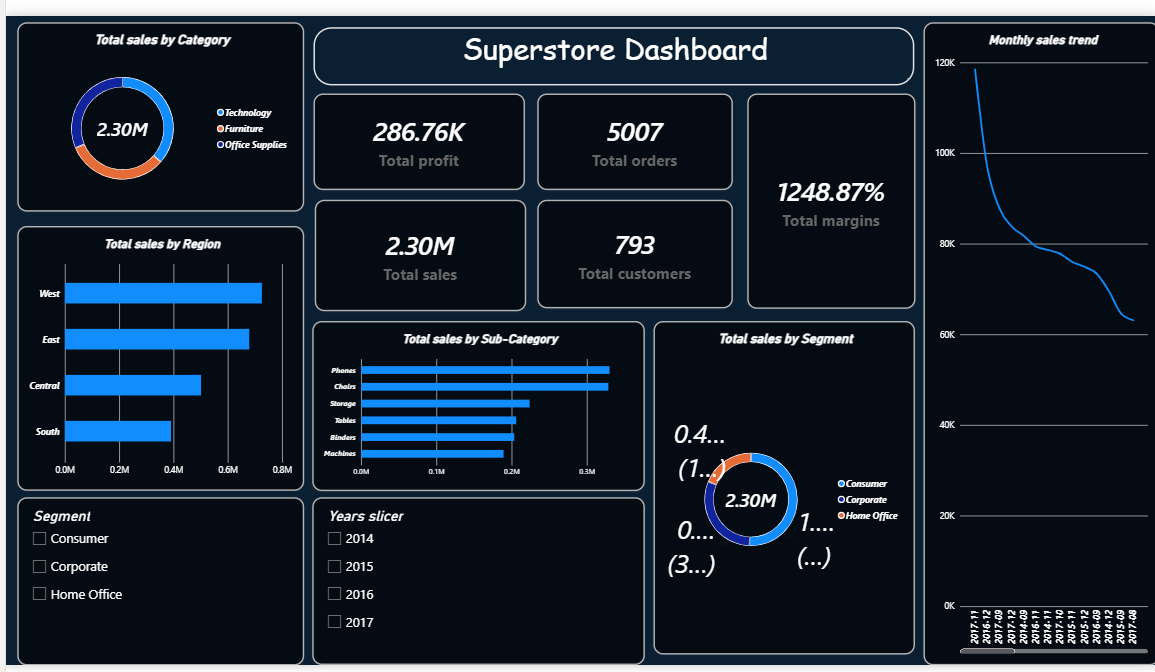

The dashboard page shown, as its layout file describes it:
{"tool":"powerbi","page":{"name":"Overview","canvas":[1920,1080],"ordinal":0},"visuals":[{"type":"card","fields":{"Values":["public superstore3.Total sales"]},"box":[514.6,306.7,352,185.2],"z":0},{"type":"card","fields":{"Values":["public superstore3.Total profit"]},"box":[512.5,129.7,352,160.5],"z":1000},{"type":"card","fields":{"Values":["public superstore3.Total margins"]},"box":[1232.9,129.7,279.9,358.1],"z":2000},{"type":"card","fields":{"Values":["public superstore3.Total customers"]},"box":[885.1,306.7,325.2,181.1],"z":3000},{"type":"card","fields":{"Values":["public superstore3.Total orders"]},"box":[885.1,129.7,325.2,160.5],"z":4000},{"type":"textbox","title":"Superstore Dashboard","box":[512.5,18.5,1000.3,96.7],"z":5000},{"type":"lineChart","title":"Monthly sales trend","fields":{"Y":["public superstore3.Total sales"],"Category":["Date table.Year Month"]},"box":[1527.3,10.3,393.1,1070.3],"z":6000},{"type":"donutChart","fields":{"Category":["public superstore3.Category"],"Y":["public superstore3.Total sales"]},"box":[18.5,10.3,477.5,314.9],"z":7000},{"type":"clusteredBarChart","fields":{"Category":["public superstore3.Region"],"Y":["public superstore3.Total sales"]},"box":[18.5,349.9,477.5,440.5],"z":8000},{"type":"donutChart","fields":{"Category":["public superstore3.Segment"],"Y":["public superstore3.Total sales"]},"box":[1077.8,507.7,434.9,555.5],"z":9000},{"type":"clusteredBarChart","fields":{"Category":["public superstore3.Sub-Category"],"Y":["public superstore3.Total sales"]},"box":[509.8,507.7,553.4,283],"z":10000},{"type":"slicer","fields":{"Values":["Date table.Year"]},"box":[509.8,801,553.4,278.8],"z":11000},{"type":"slicer","fields":{"Values":["public superstore3.Segment"]},"box":[18.5,800.7,477.5,279.9],"z":13001}]}

Visuals, with their boxes in screenshot pixels (x1, y1, x2, y2):
card - public superstore3.Total sales: rect(307, 195, 524, 309)
card - public superstore3.Total profit: rect(306, 86, 523, 185)
card - public superstore3.Total margins: rect(749, 86, 921, 306)
card - public superstore3.Total customers: rect(535, 195, 735, 306)
card - public superstore3.Total orders: rect(535, 86, 735, 185)
"Superstore Dashboard" textbox: rect(306, 17, 921, 77)
"Monthly sales trend" lineChart: rect(930, 12, 1154, 671)
donutChart - public superstore3.Category x public superstore3.Total sales: rect(2, 12, 296, 206)
clusteredBarChart - public superstore3.Region x public superstore3.Total sales: rect(2, 221, 296, 492)
donutChart - public superstore3.Segment x public superstore3.Total sales: rect(654, 318, 921, 660)
clusteredBarChart - public superstore3.Sub-Category x public superstore3.Total sales: rect(305, 318, 645, 492)
slicer - Date table.Year: rect(305, 499, 645, 670)
slicer - public superstore3.Segment: rect(2, 498, 296, 671)
